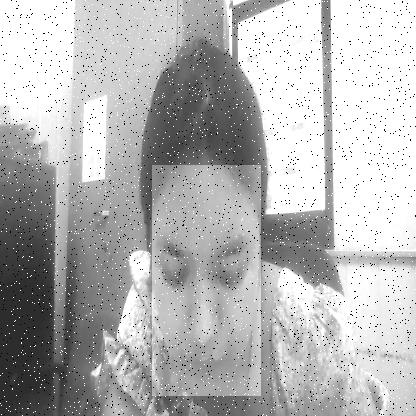Normal: (152, 165, 261, 396)
